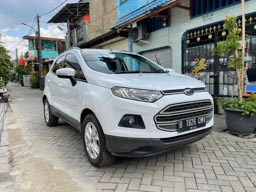plat: (178, 116, 206, 127)
